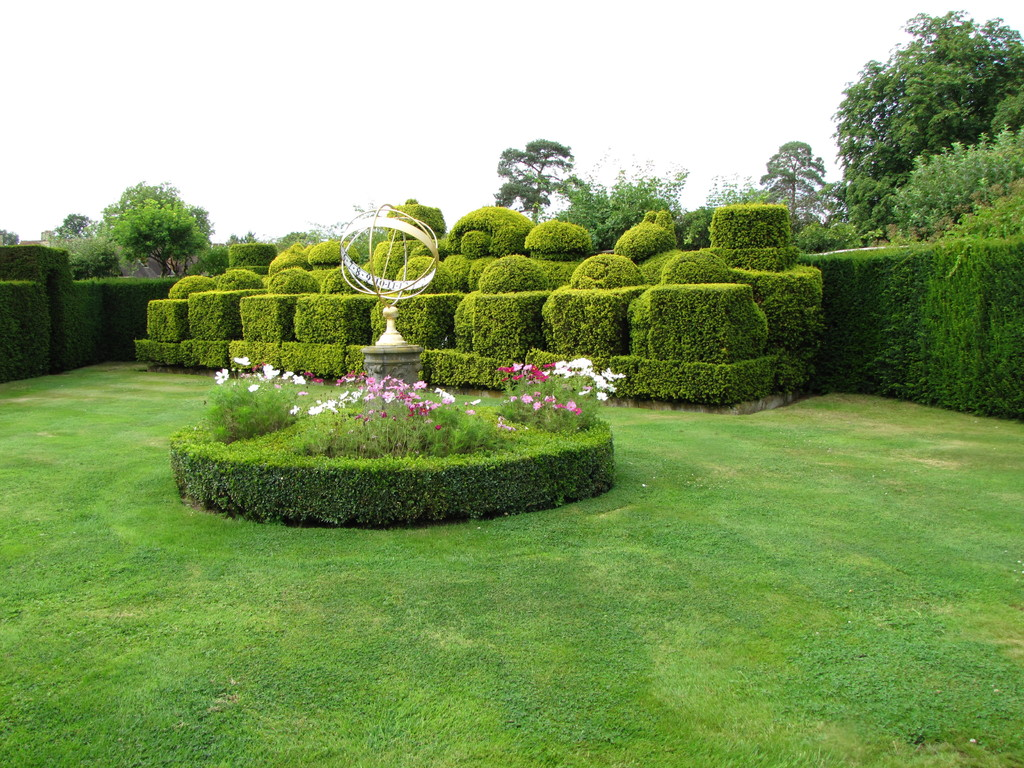Tree: (817, 7, 1024, 244), (95, 178, 219, 274), (491, 138, 575, 225), (757, 141, 827, 222), (60, 211, 93, 235), (0, 228, 19, 245)
